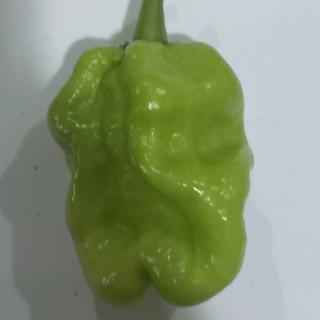Grade-A: (43, 34, 260, 308)
